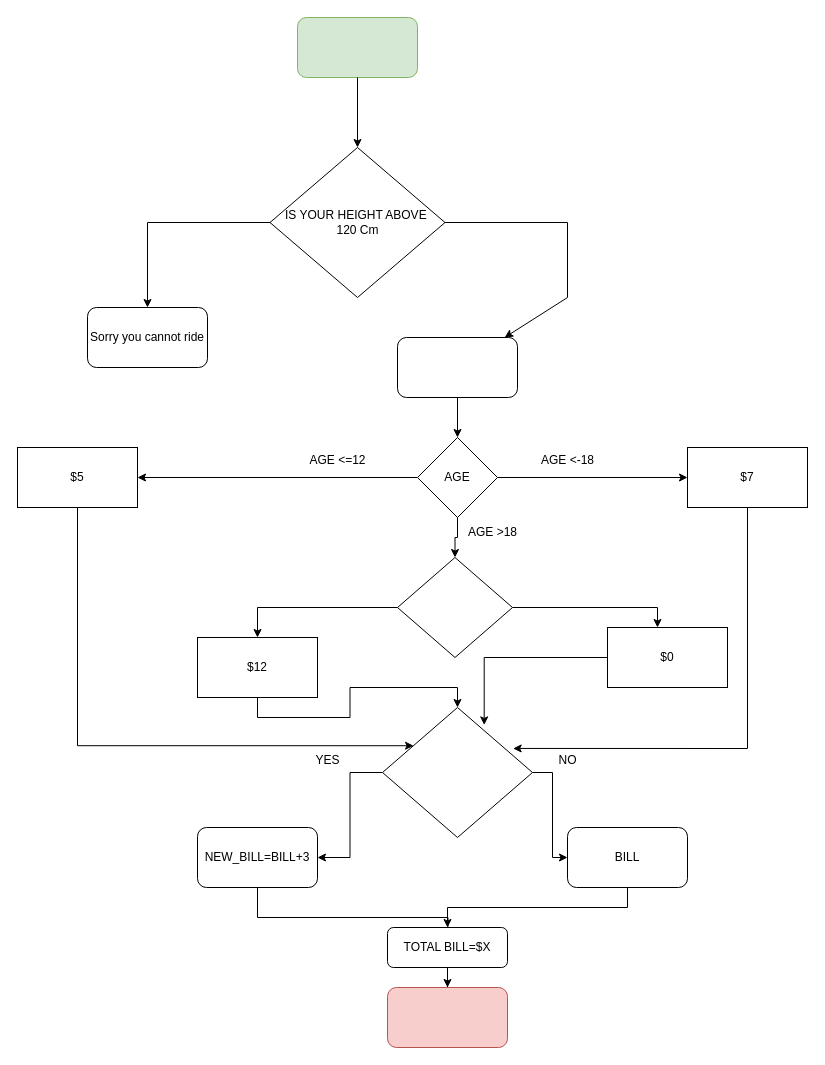
This 825x1065 diagram has some shape labels left out. The shapes that lost their labels are listed below. From the top down, each one's centre as x and y in pixels, then its label:
point (357, 47): START
point (457, 367): CAN RIDE
point (454, 607): Age>=45 and Age <=55
point (457, 772): WANT PHOTOS
point (447, 1017): END
